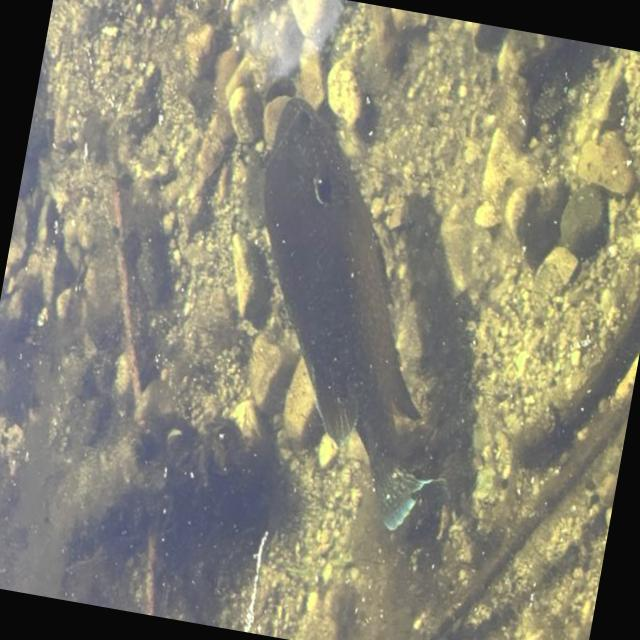Gunes Levregi: (199, 88, 507, 533)
